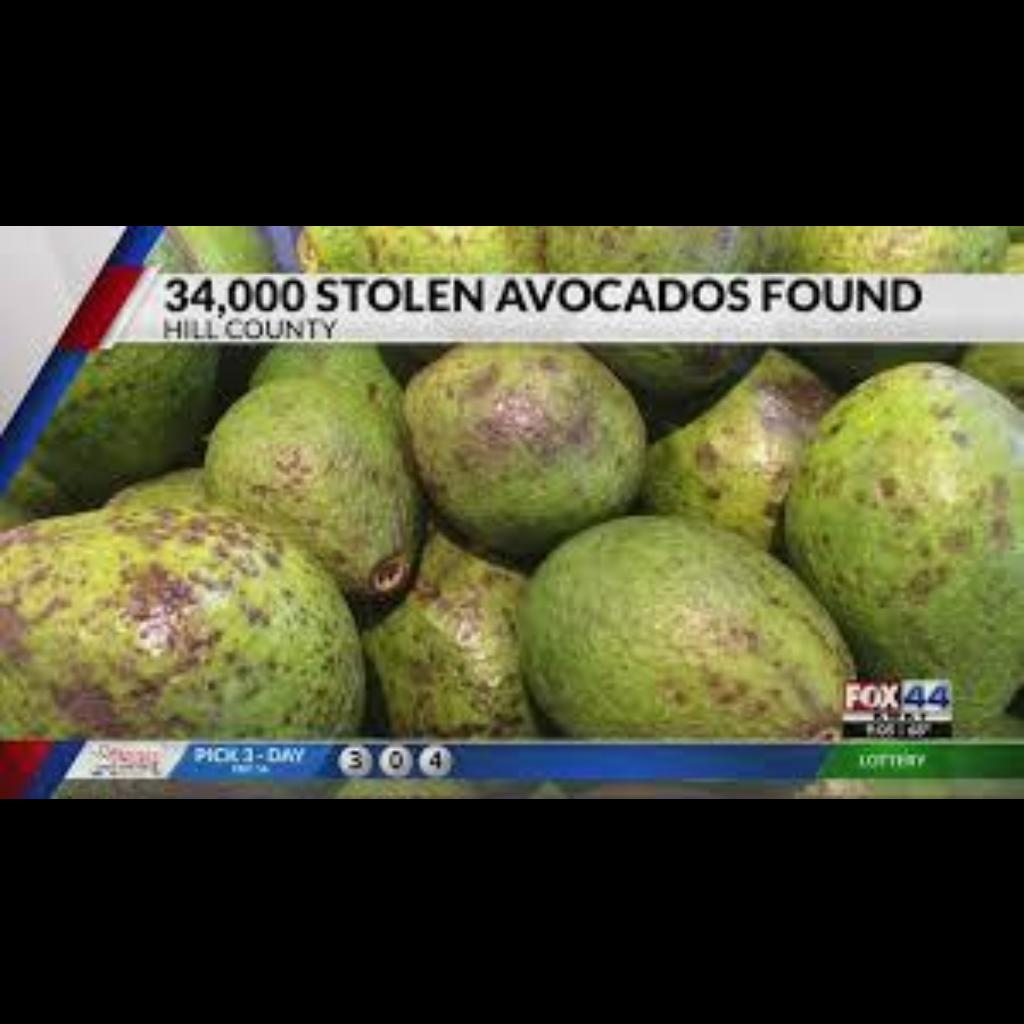cercospora: (76, 515, 340, 713), (808, 419, 1009, 634), (609, 551, 835, 718), (671, 404, 794, 506)
